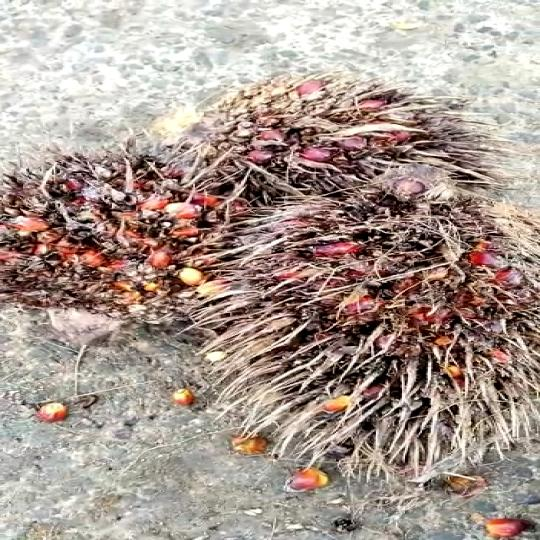terlalu masak: (221, 199, 538, 483), (0, 154, 253, 337), (190, 82, 456, 201)
